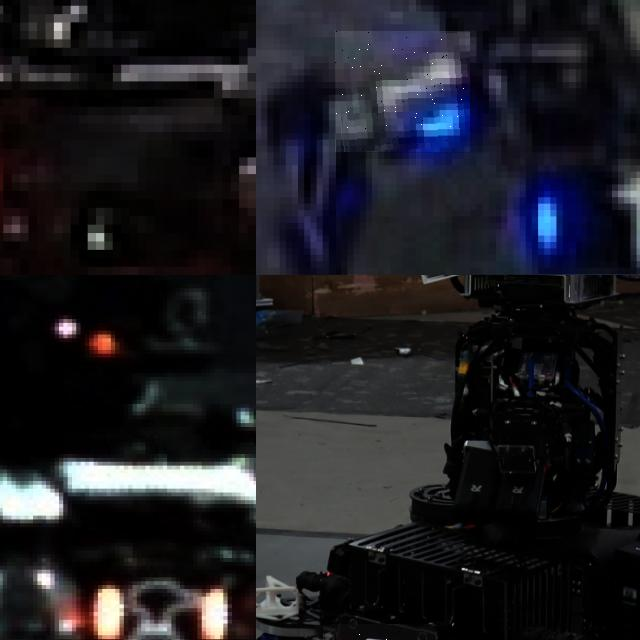B1: (335, 31, 470, 152), (258, 86, 369, 232), (516, 152, 640, 273)
Rs: (93, 573, 232, 640)
